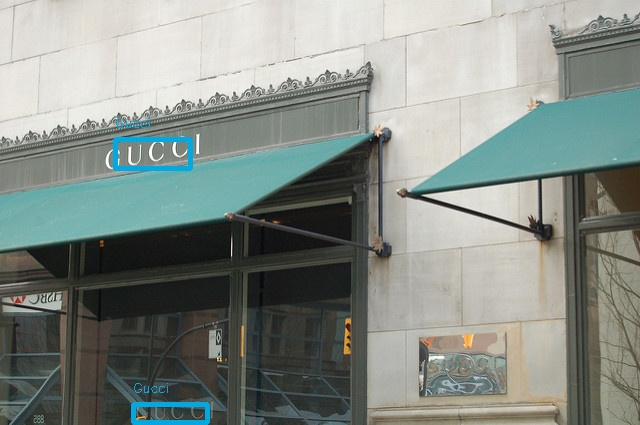Gucci: (95, 133, 205, 170), (130, 398, 222, 423)
